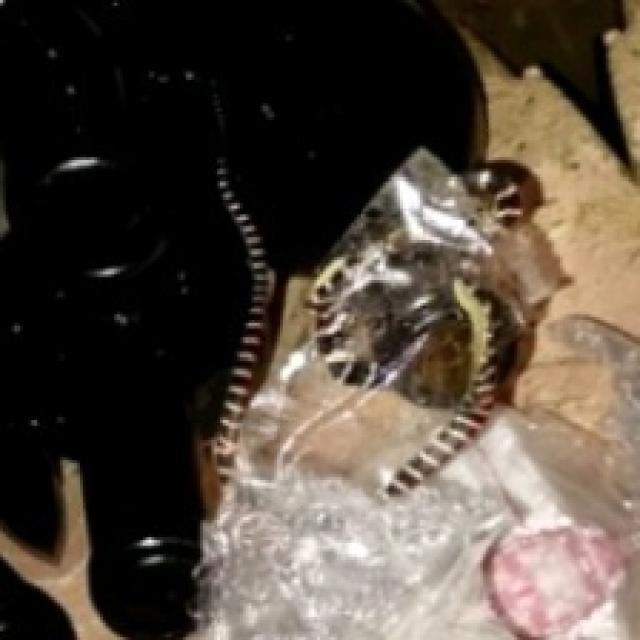paradise tree snake: (0, 0, 483, 637), (280, 151, 563, 494)
